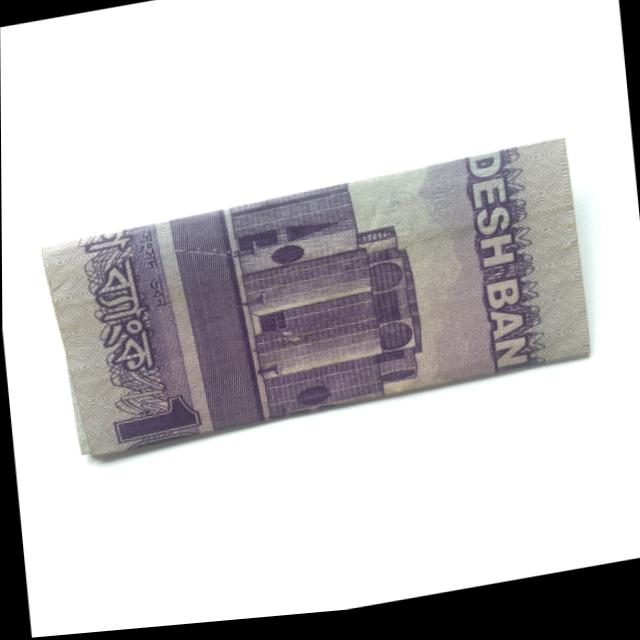Taka: (33, 132, 612, 469)
